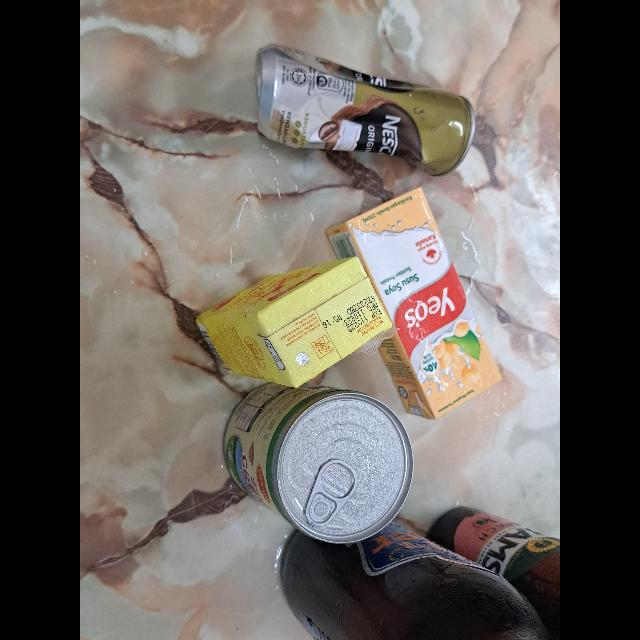aba de lata: (306, 458, 356, 526)
caixinha: (326, 185, 502, 423), (192, 256, 394, 388)
garrafa de vidro: (280, 514, 544, 640), (424, 504, 560, 640)
lata: (220, 380, 412, 542), (256, 44, 474, 178)
